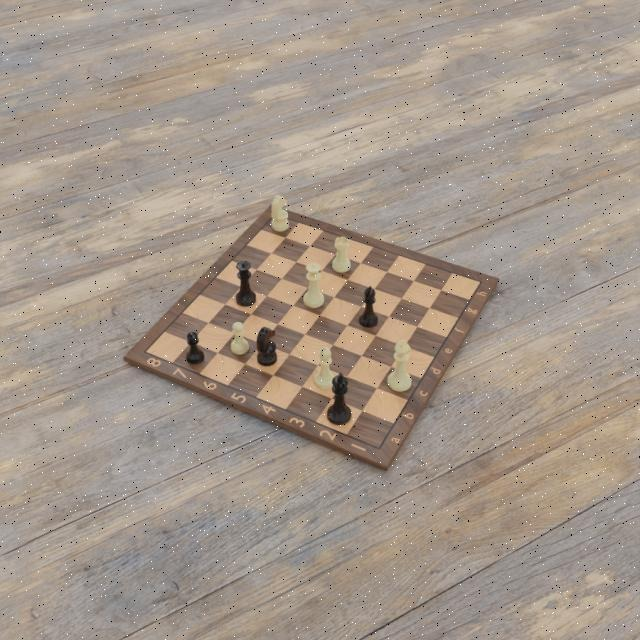black-bishop: (357, 284, 378, 327)
black-king: (325, 370, 353, 426)
black-knight: (256, 325, 279, 367)
black-pawn: (186, 330, 206, 366)
black-queen: (235, 260, 257, 307)
white-bishop: (311, 344, 335, 389)
white-king: (387, 338, 413, 393)
white-knight: (270, 194, 290, 233)
white-pawn: (229, 321, 249, 357)
white-queen: (302, 259, 325, 309)
white-rook: (332, 236, 352, 275)
